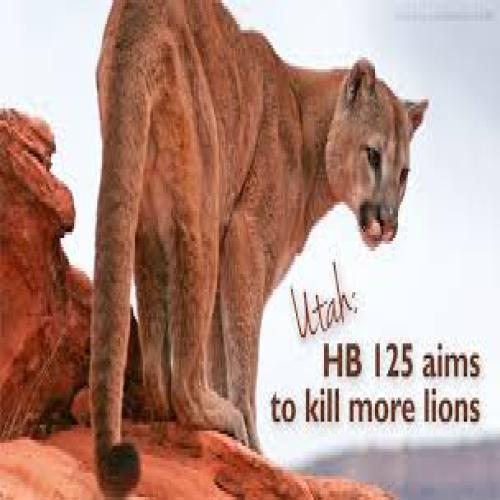lion-endangered: (93, 0, 423, 470)
